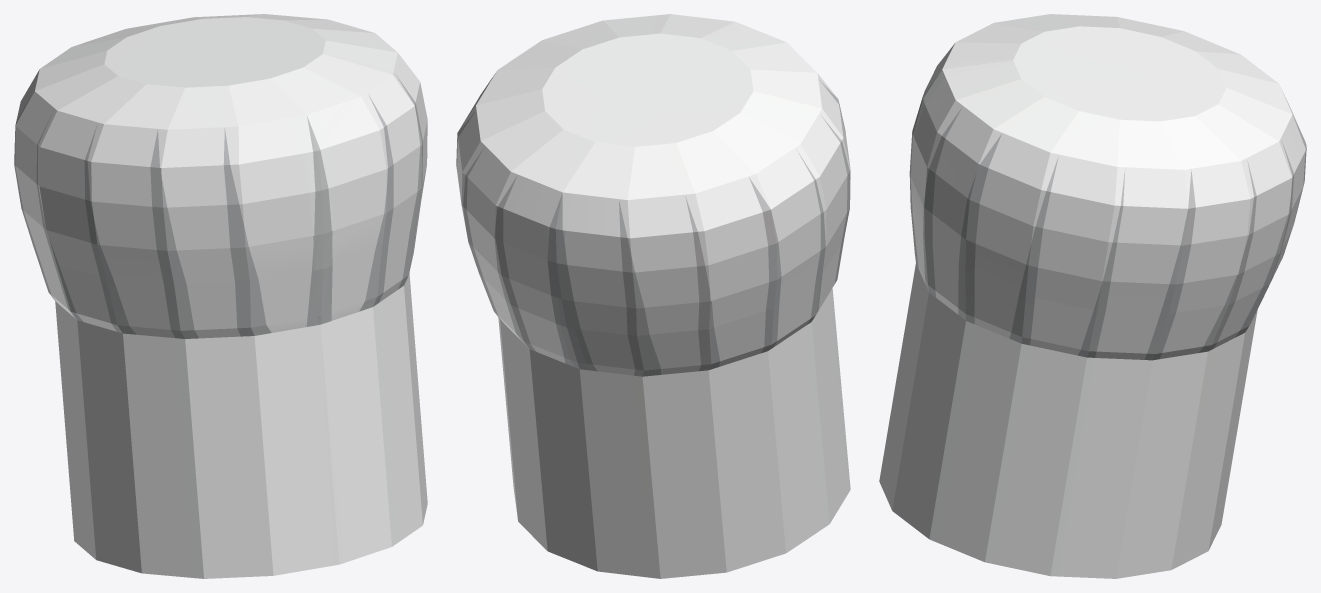
File: chefshat.fbx
3 views of the same model, side by side, from view 1: azimuth 30°, elevation 25°; view 2: azimuth 150°, elevation 25°; view 3: azimuth 270°, elevation 25° (orthographic). The views are drawn at different scales.
Parts seen in each view (by area): view 1: chefshat; view 2: chefshat; view 3: chefshat.
Part boxes in pixels (x1,y1,x2,y2): chefshat: (14, 14, 427, 578); chefshat: (456, 14, 850, 578); chefshat: (879, 14, 1306, 578).
Bounding box in the file's own units: 30.33 × 38.36 × 31.99.
